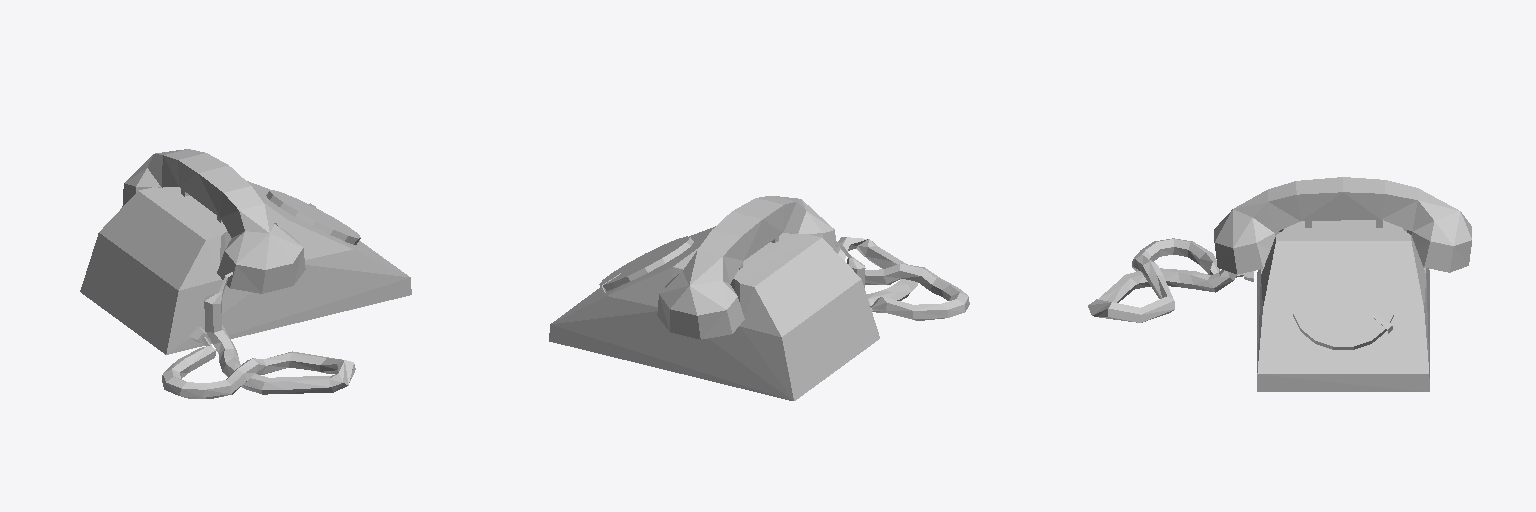
Rendered from Telephone01.obj.
3 views of the same model, side by side, from view 1: azimuth 30°, elevation 25°; view 2: azimuth 150°, elevation 25°; view 3: azimuth 270°, elevation 25° (orthographic).
Visible parts, largest first — view 1: Telephone01_LOD0_telephone_lp.001; view 2: Telephone01_LOD0_telephone_lp.001; view 3: Telephone01_LOD0_telephone_lp.001.
Boxes of the visible parts, x1=… form: Telephone01_LOD0_telephone_lp.001: x1=80, y1=149, x2=411, y2=398; Telephone01_LOD0_telephone_lp.001: x1=549, y1=196, x2=969, y2=400; Telephone01_LOD0_telephone_lp.001: x1=1088, y1=177, x2=1471, y2=391.
Bounding box in the file's own units: 0.3661 × 0.1603 × 0.4225.